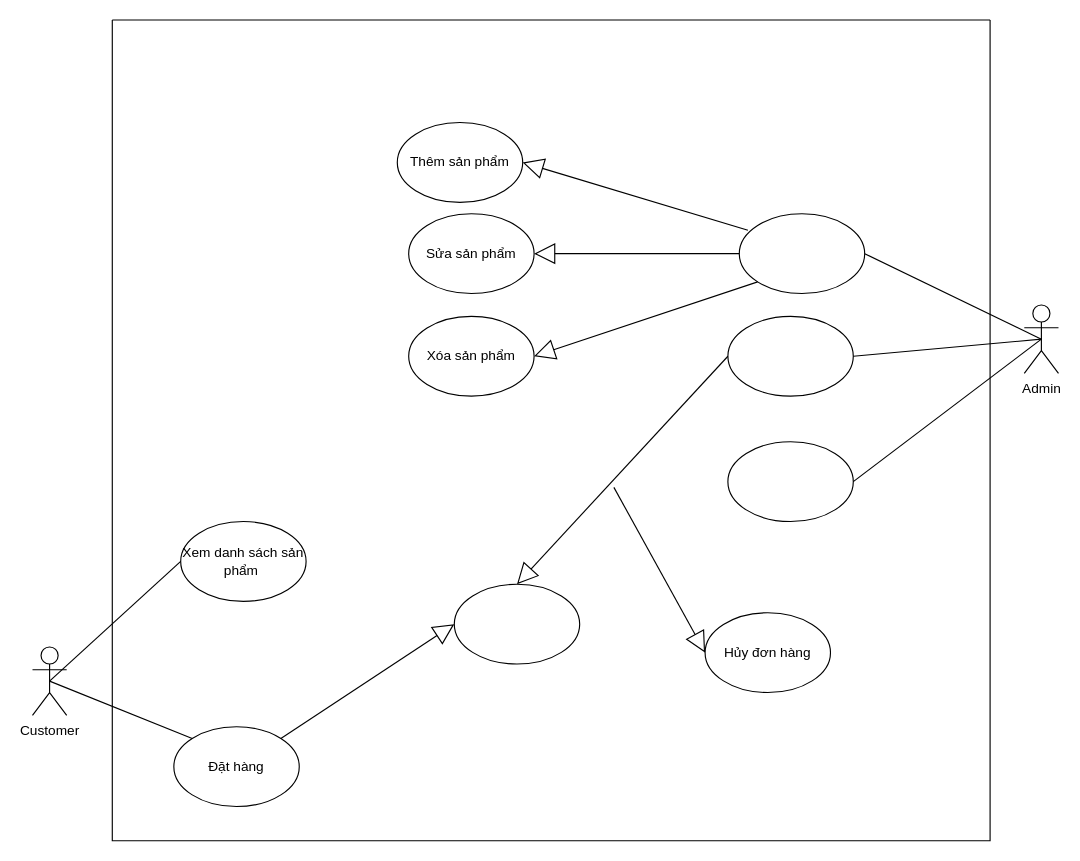
Some shapes in this 1080 by 861 pixel diagram are drawn without their labels. Here are the shapes that lost their labels. From the top down, the centre of each, then its label:
[801,253]: Quản lý sản phẩm
[790,355]: Quản lý đơn hàng
[790,481]: Xem báo cáo doanh thu
[516,623]: Tạo đơn hàng
